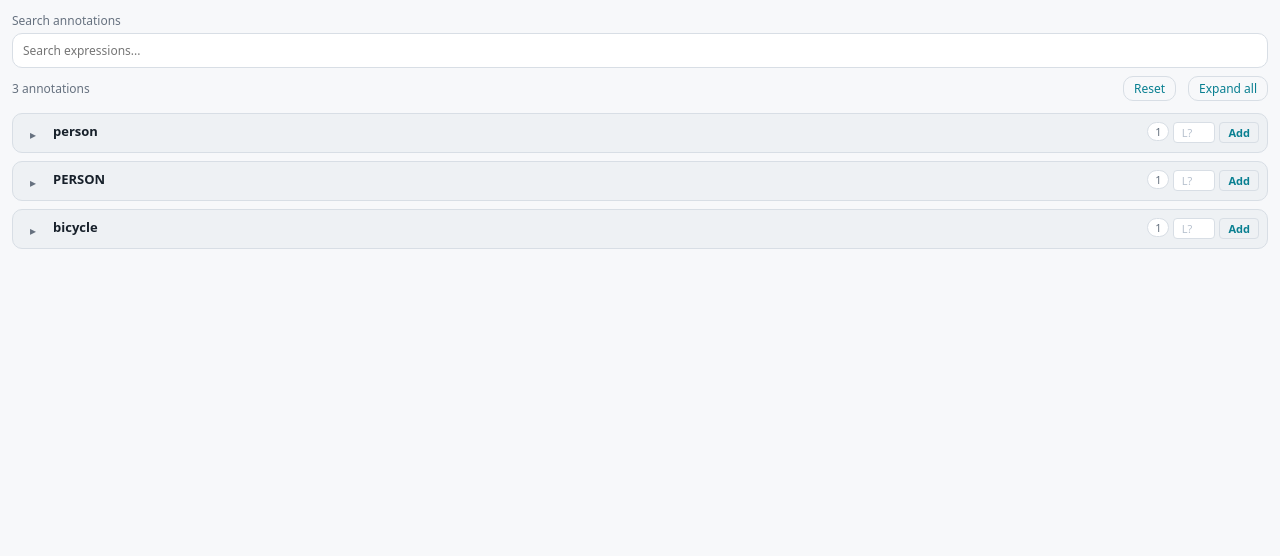
filters duplicate labels case-insensitively without changing ID order
The image size is (1280, 556).
expect the element named "Total annotations" reads "3 annotations": met, box [12,80,90,97]
Type "  PeRsOn  " into the search field labelled "Search annotations" at (640, 50), box [12,33,1268,68]
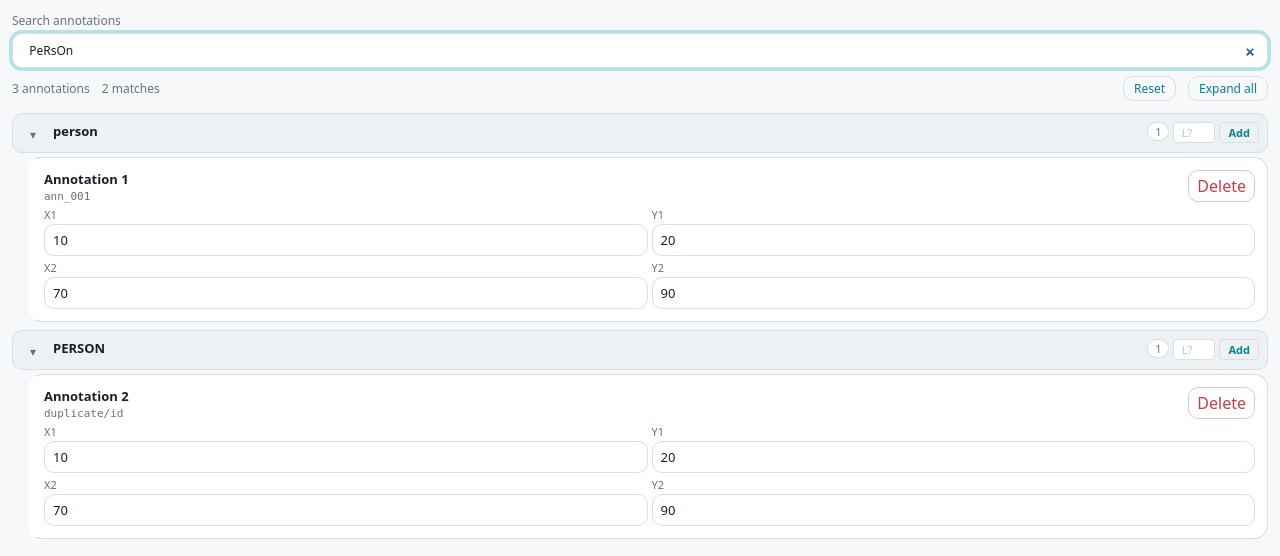
expect the element named "Matching annotations" reads "2 matches": met, box [102,80,160,97]
